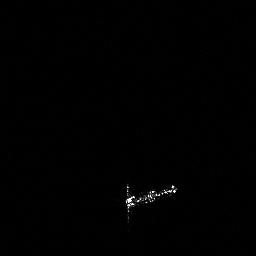ship: (123, 182, 180, 222)
